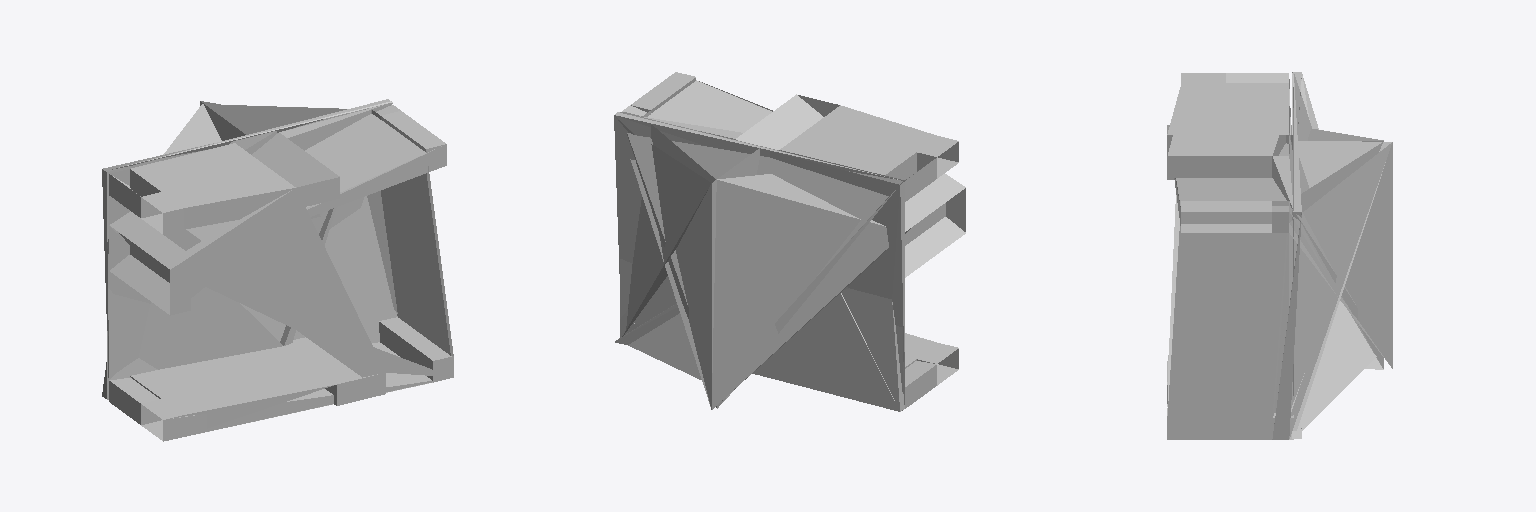
Rendered from house.obj.
3 views of the same model, side by side, from view 1: azimuth 30°, elevation 25°; view 2: azimuth 150°, elevation 25°; view 3: azimuth 270°, elevation 25° (orthographic).
Bounding box in the file's own units: 13.03 × 10 × 8.88.